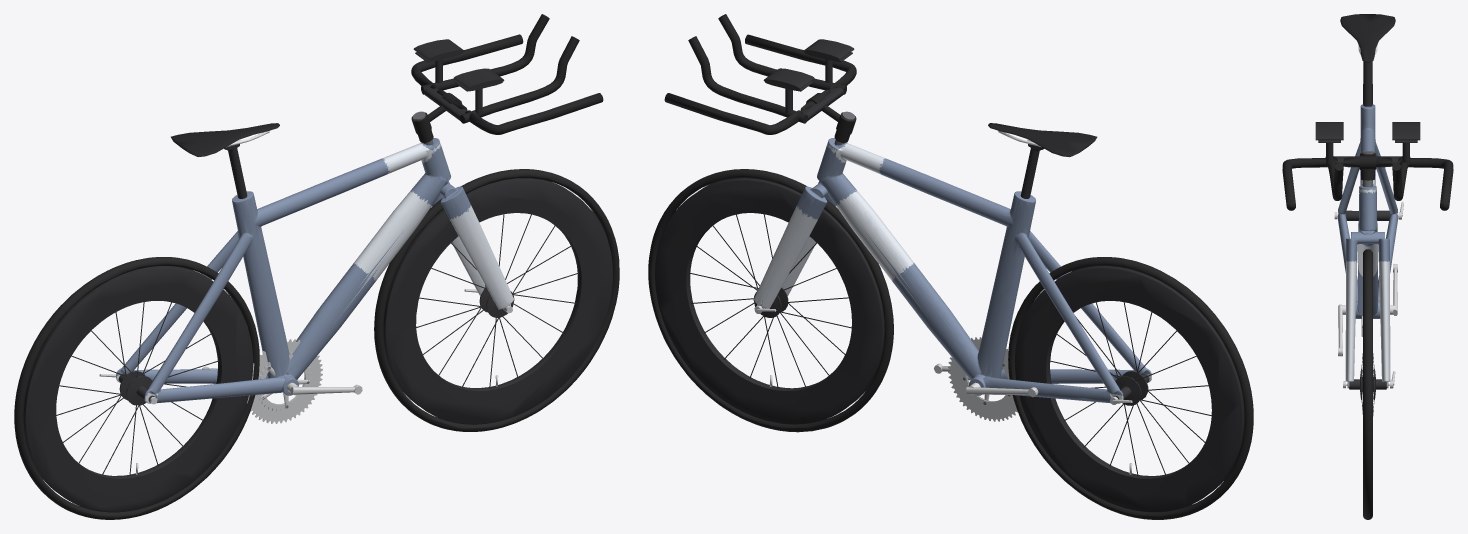
Rendered from bike_lite.glb.
The picture shows the model from 3 angles, left to right: view 1: azimuth 30°, elevation 25°; view 2: azimuth 150°, elevation 25°; view 3: azimuth 270°, elevation 25°; orthographic projection. The views are drawn at different scales.
Parts seen in each view (by area): view 1: saddle, fork, basebar, tyre_front; view 2: saddle, fork, basebar, tyre_front; view 3: fork, basebar, tyre_front, saddle.
Boxes of the visible parts, box(x1,y1,x2,y2) form: saddle: box(23, 123, 612, 512); fork: box(116, 138, 513, 403); basebar: box(56, 14, 603, 475); tyre_front: box(14, 169, 619, 519); saddle: box(655, 123, 1244, 512); fork: box(754, 138, 1151, 403); basebar: box(664, 14, 1211, 475); tyre_front: box(648, 169, 1253, 519); fork: box(1337, 104, 1398, 388); basebar: box(1282, 45, 1453, 415); tyre_front: box(1363, 84, 1372, 519); saddle: box(1340, 14, 1395, 62).
Bounding box in the file's own units: 1.66 × 1.02 × 0.4242.
4 materials, 4 textured.
